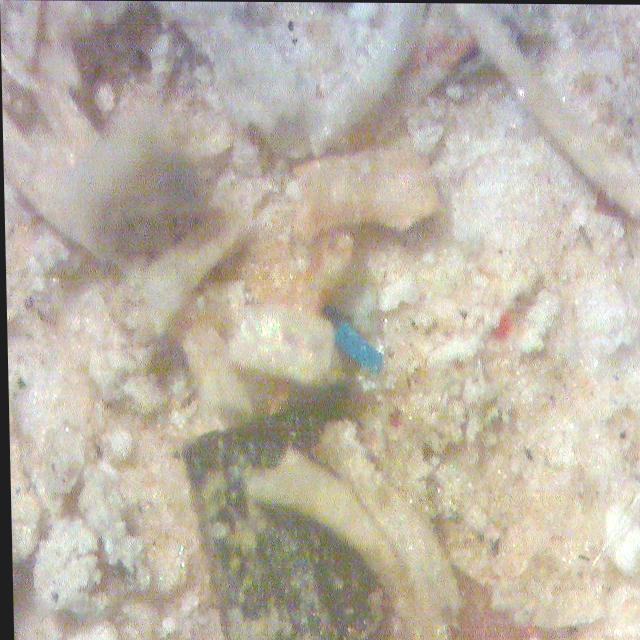microplastic: (307, 304, 390, 380)
